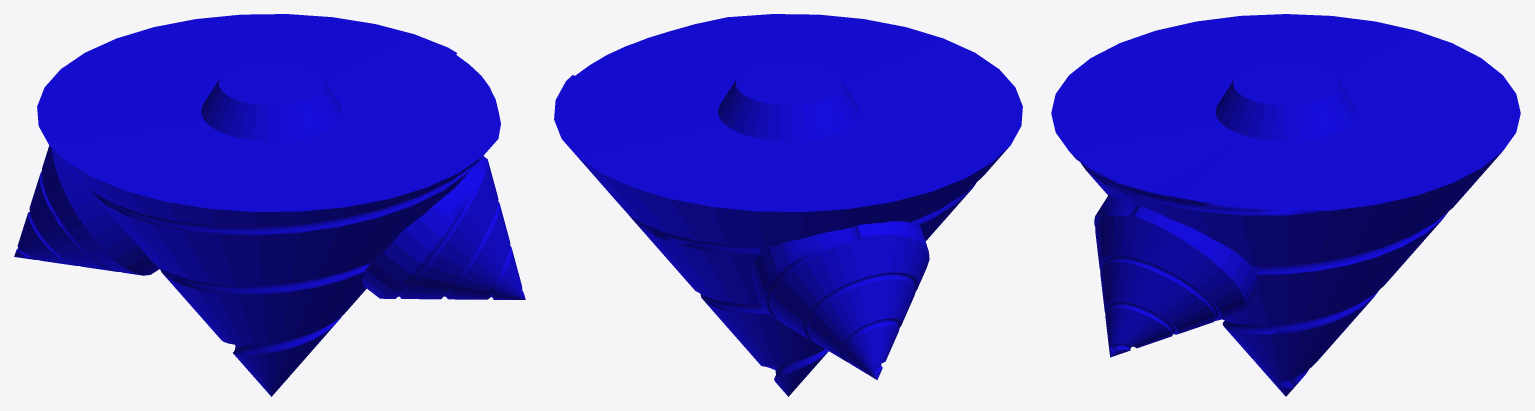
The model's file is big drill head lvl 1.fbx.
3 views of the same model, side by side, from view 1: azimuth 30°, elevation 25°; view 2: azimuth 150°, elevation 25°; view 3: azimuth 270°, elevation 25° (orthographic).
Parts seen in each view (by area): view 1: drill head; view 2: drill head; view 3: drill head.
Part boxes in pixels (x1,y1,x2,y2): drill head: (14,14,525,396); drill head: (554,14,1022,396); drill head: (1051,14,1520,396).
Bounding box in the file's own units: 298 × 221 × 300.
